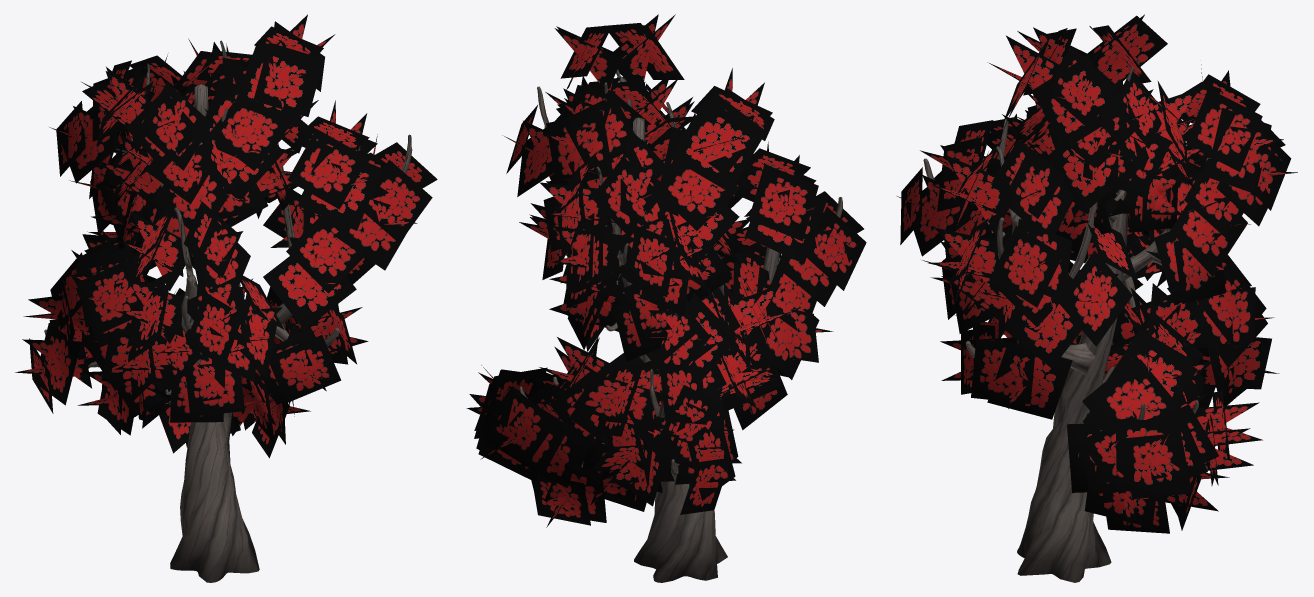
File: TwistedTree_3.glb
3 views of the same model, side by side, from view 1: azimuth 30°, elevation 25°; view 2: azimuth 150°, elevation 25°; view 3: azimuth 270°, elevation 25° (orthographic). The views are drawn at different scales.
Visible parts, largest first — view 1: TwistedTree_3; view 2: TwistedTree_3; view 3: TwistedTree_3.
Part boxes in pixels (x1,y1,x2,y2): TwistedTree_3: (15, 14, 437, 582); TwistedTree_3: (466, 14, 866, 582); TwistedTree_3: (897, 14, 1297, 582).
Size of the model in its own units: 10.49 by 15.88 by 10.63.
Materials: 2 (2 with a texture image).
